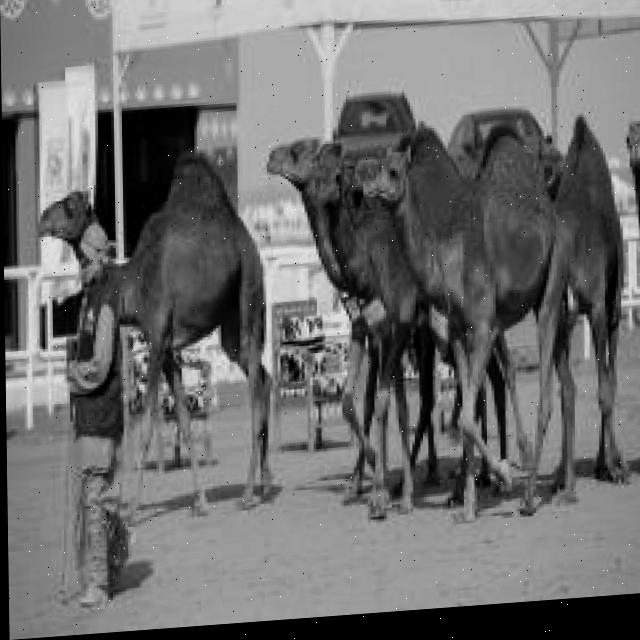Camel: (35, 143, 275, 528), (360, 110, 574, 528), (264, 125, 446, 524)
